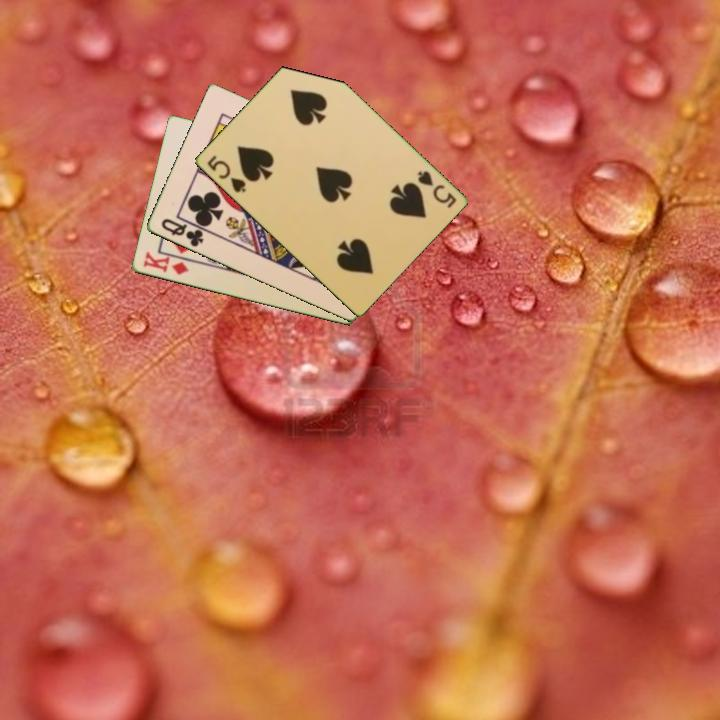5s: (413, 167, 459, 211), (203, 152, 248, 196)
Kd: (139, 248, 191, 278)
Qc: (157, 215, 207, 250)
